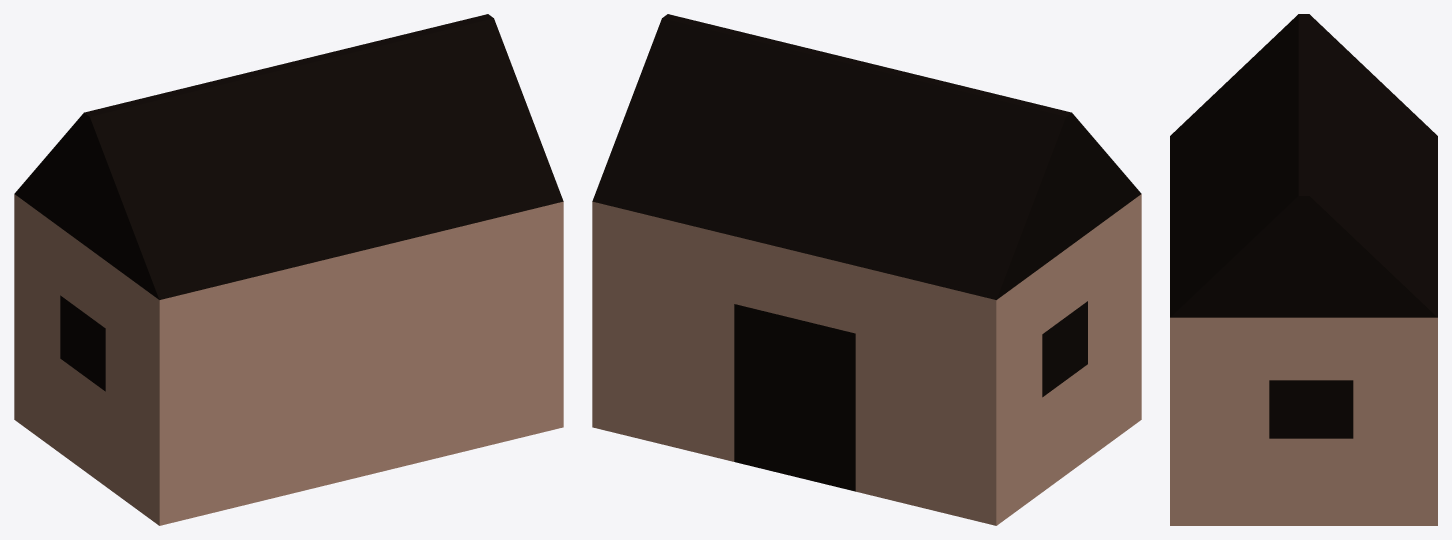
File: House_big_v1.fbx
The picture shows the model from 3 angles, left to right: view 1: azimuth 30°, elevation 25°; view 2: azimuth 150°, elevation 25°; view 3: azimuth 270°, elevation 25°; orthographic projection. The views are drawn at different scales.
Parts seen in each view (by area): view 1: House2_1; view 2: House2_1; view 3: House2_1.
Boxes of the visible parts, <box> form: House2_1: <box>14,14,563,525</box>; House2_1: <box>592,14,1141,525</box>; House2_1: <box>1170,14,1437,525</box>.
Bounding box in the file's own units: 7.66 × 6.49 × 4.77.
